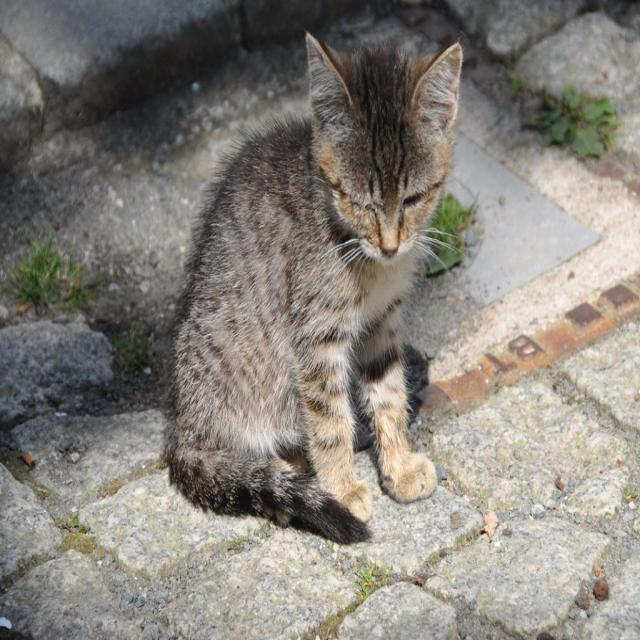Cat: (156, 23, 465, 544)
